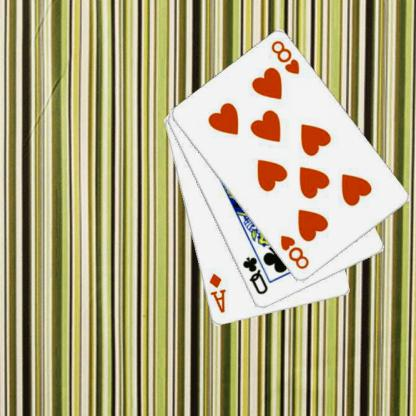8H: (270, 38, 303, 76), (280, 233, 312, 271)
AD: (208, 271, 229, 314)
QC: (242, 254, 271, 296)
